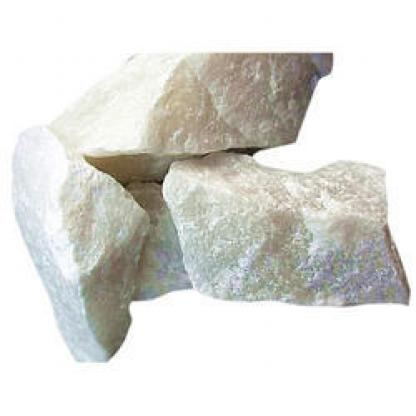Sedimentary_Limestone: (162, 160, 414, 319), (10, 122, 146, 380), (54, 39, 345, 152)
